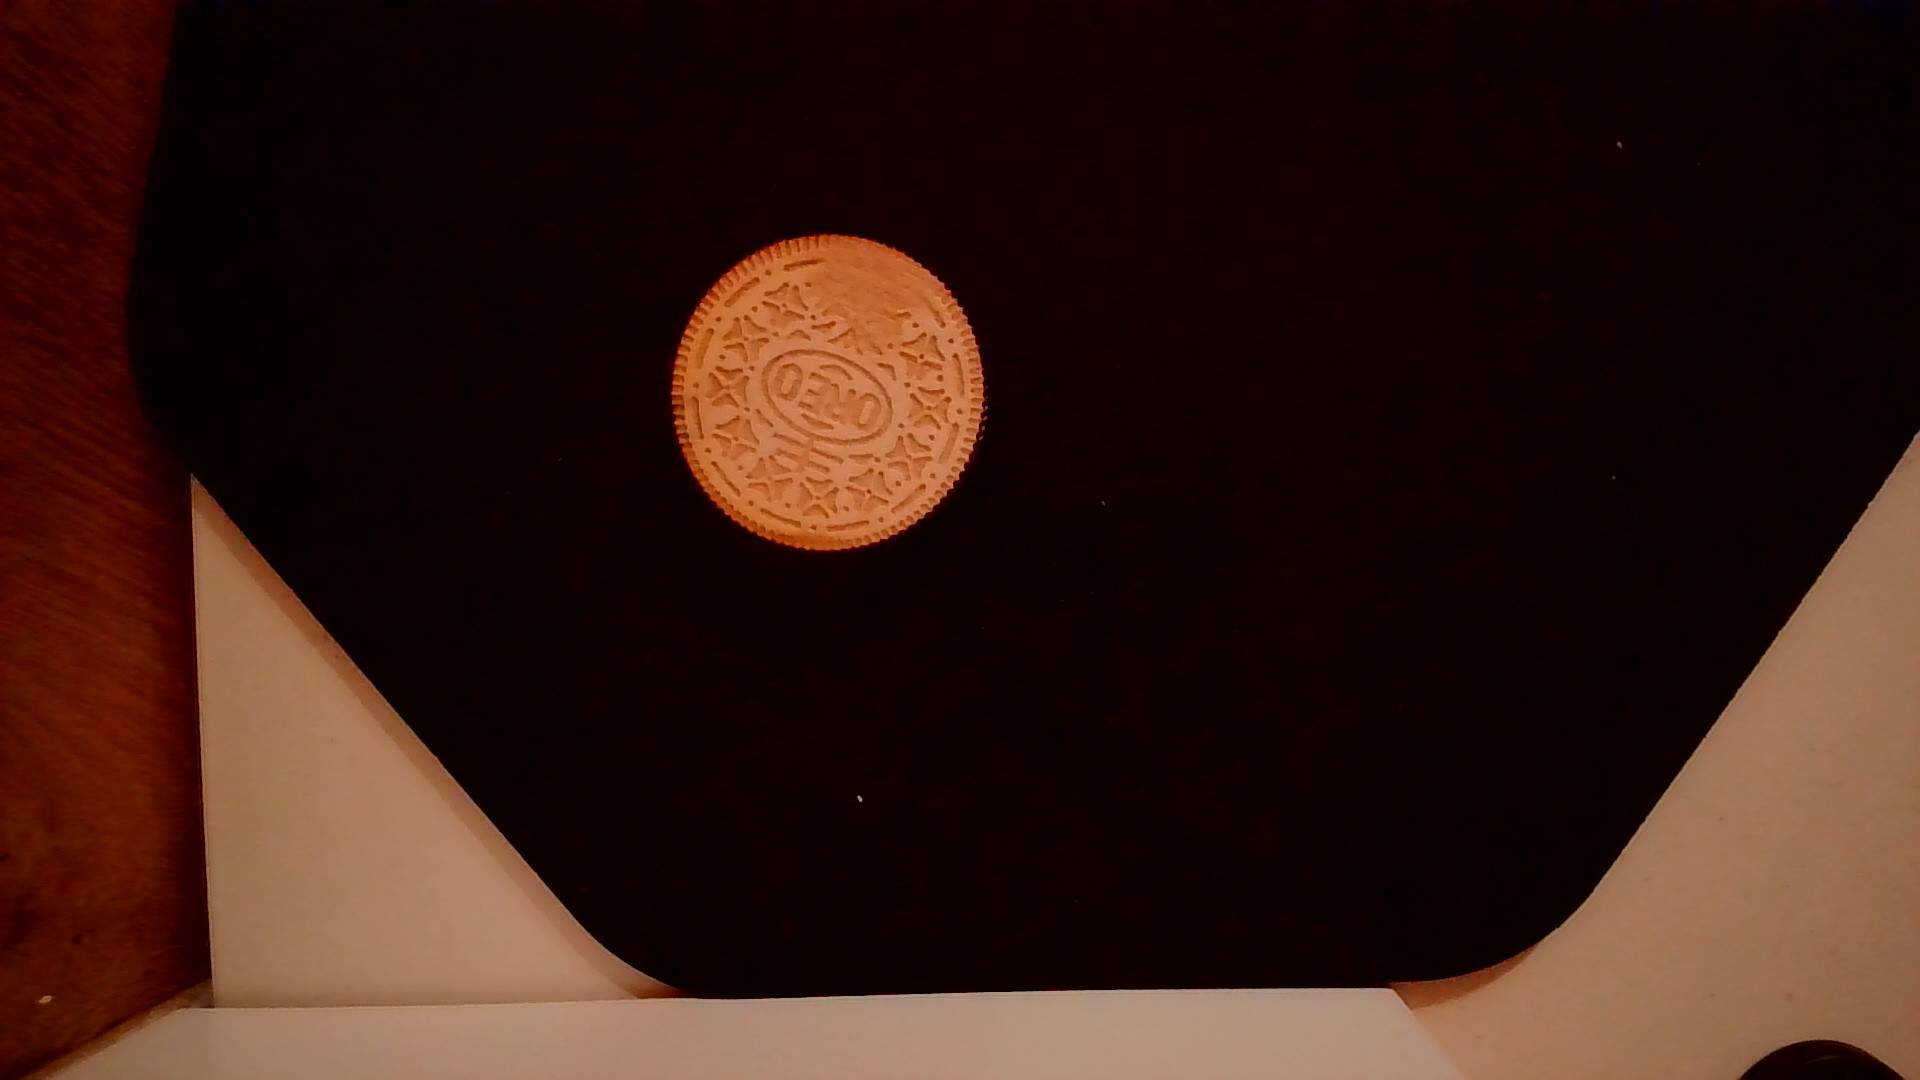Effacé: (802, 235, 942, 345)
Oréo: (663, 233, 1000, 563)
